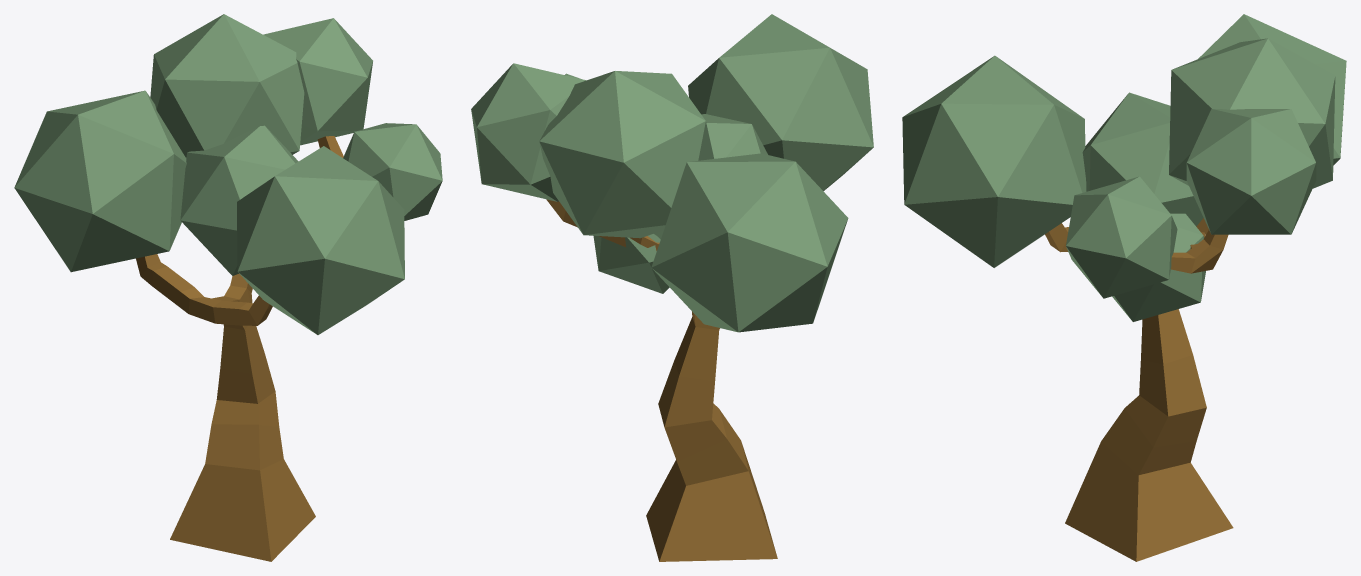
The model's file is Agac_2.fbx.
The picture shows the model from 3 angles, left to right: view 1: azimuth 30°, elevation 25°; view 2: azimuth 150°, elevation 25°; view 3: azimuth 270°, elevation 25°; orthographic projection. The views are drawn at different scales.
Visible parts, largest first — view 1: Plane; view 2: Plane; view 3: Plane.
Boxes of the visible parts, box(x1,y1,x2,y2) form: Plane: box(14, 14, 442, 561); Plane: box(471, 14, 873, 561); Plane: box(902, 14, 1346, 561).
Size of the model in its own units: 432 by 545 by 430.
